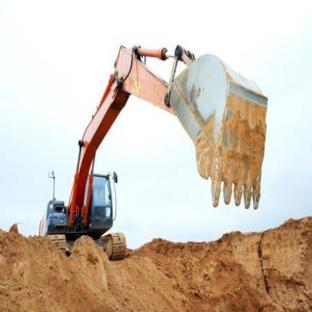ExcavationMachinery: (30, 40, 278, 261)
